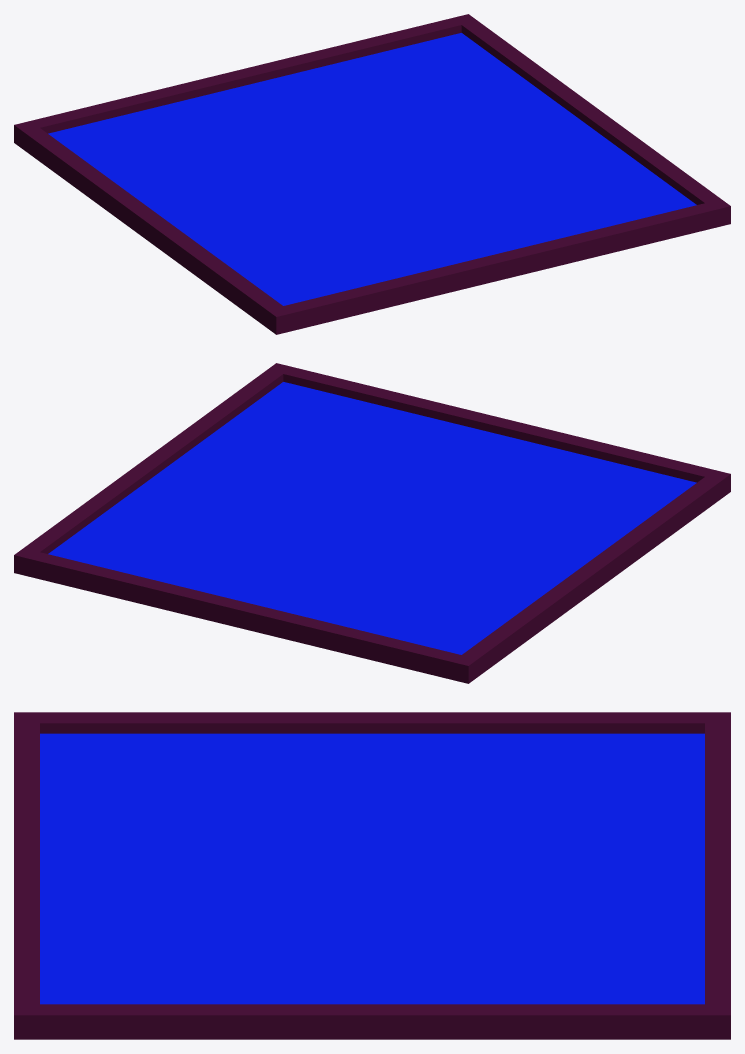
Rendered from портал.fbx.
3 views of the same model, one above another, from view 1: azimuth 30°, elevation 25°; view 2: azimuth 150°, elevation 25°; view 3: azimuth 270°, elevation 25° (orthographic). The views are drawn at different scales.
Visible parts, largest first — view 1: Cube, Cube.001; view 2: Cube, Cube.001; view 3: Cube, Cube.001.
Part boxes in pixels (x1,y1,x2,y2): Cube: (48, 33, 696, 305); Cube.001: (14, 14, 730, 334); Cube: (48, 382, 696, 654); Cube.001: (14, 363, 730, 683); Cube: (40, 733, 704, 1004); Cube.001: (14, 712, 730, 1039).
Size of the model in its own units: 431 by 16.24 by 431.
